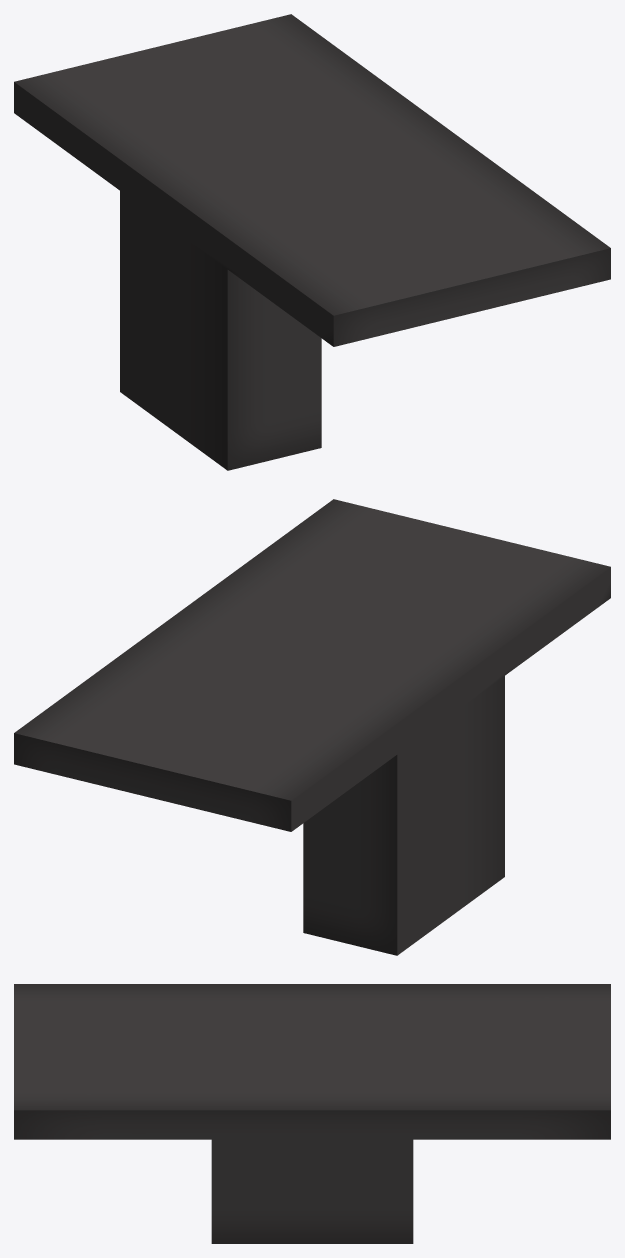
File: SM_Square_Table.fbx
3 views of the same model, one above another, from view 1: azimuth 30°, elevation 25°; view 2: azimuth 150°, elevation 25°; view 3: azimuth 270°, elevation 25° (orthographic). The views are drawn at different scales.
Parts seen in each view (by area): view 1: Square_Table; view 2: Square_Table; view 3: Square_Table.
Boxes of the visible parts, x1,y1,x2,y2 form: Square_Table: (14, 14, 610, 470); Square_Table: (14, 499, 610, 955); Square_Table: (14, 984, 610, 1243).
Size of the model in its own units: 1.42 by 1.14 by 2.84.
1 material, 1 textured.
